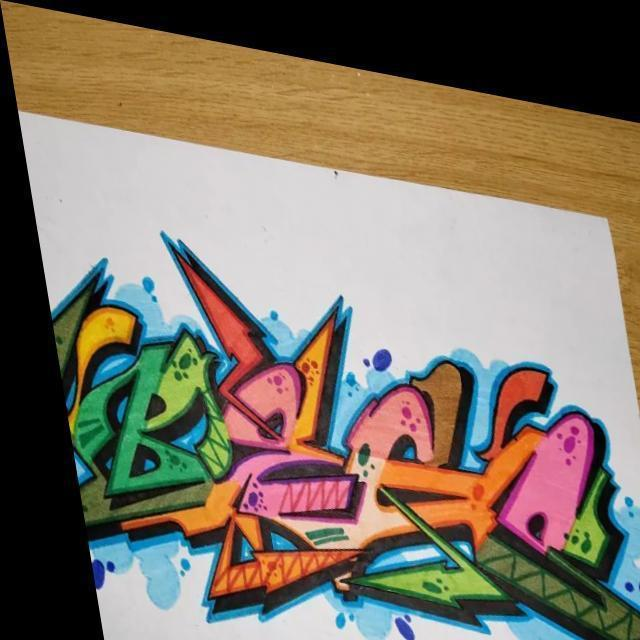nonspitting: (56, 233, 640, 640)
